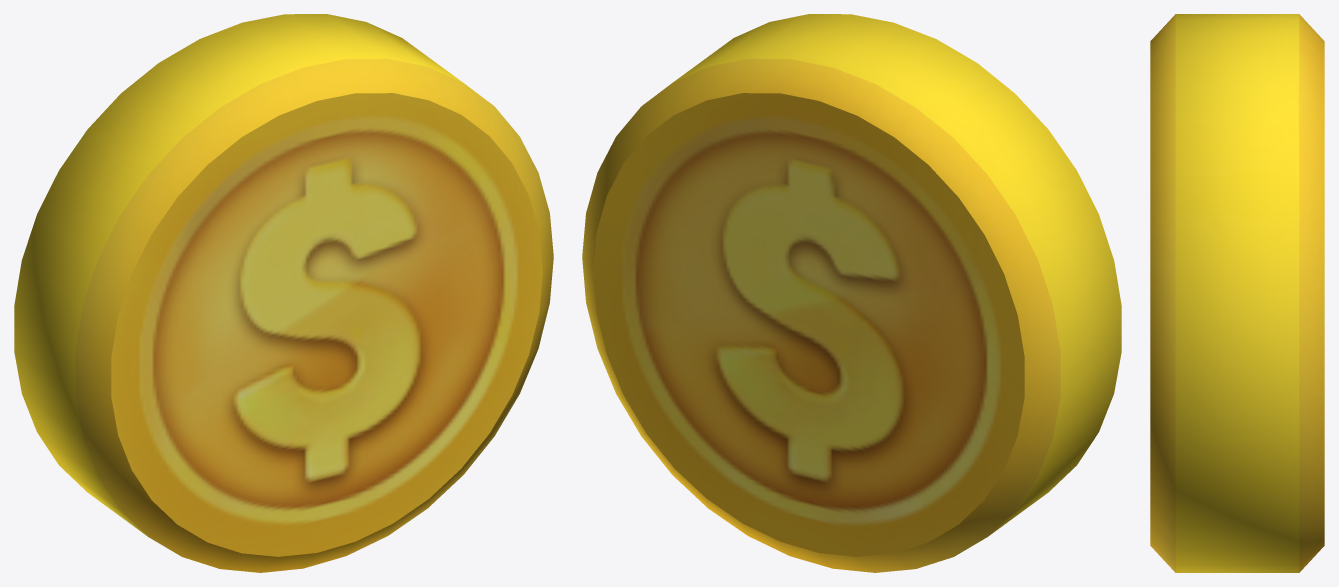
Rendered from coin.FBX.
The picture shows the model from 3 angles, left to right: view 1: azimuth 30°, elevation 25°; view 2: azimuth 150°, elevation 25°; view 3: azimuth 270°, elevation 25°; orthographic projection.
Parts seen in each view (by area): view 1: coin; view 2: coin; view 3: coin.
Part boxes in pixels (x1,y1,x2,y2): coin: [14, 14, 553, 572]; coin: [582, 14, 1121, 572]; coin: [1150, 14, 1324, 572].
Size of the model in its own units: 31.85 by 31.88 by 9.95.
